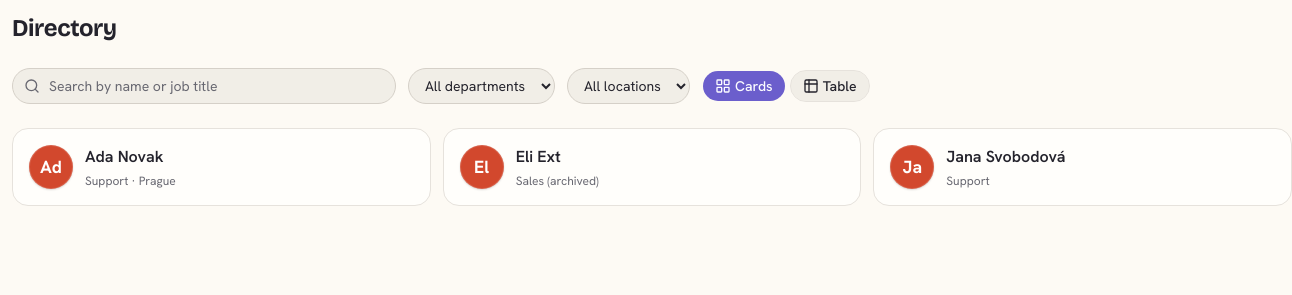
DirectoryScreen › filters by department and location, and shows both on the card and in the table
Expected: the text "Support · Prague" is shown, [85,173,176,189]
Expected: the text "Sales (archived)" is shown, [516,173,599,189]
Select "Support" in the dropdown named "Department" at (482, 86), box [408,68,555,104]
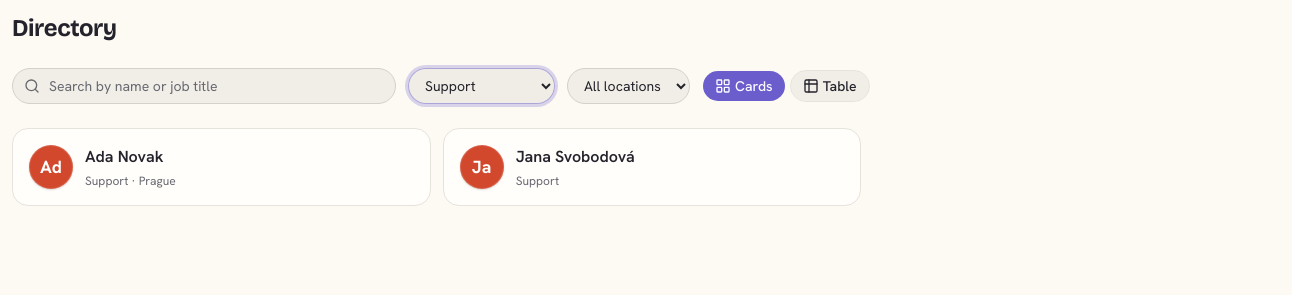
Now the number of links is 2, box [12,128,431,206]; [443,128,861,206]
Select "Prague" in the dropdown named "Location" at (628, 86), box [567,68,690,104]
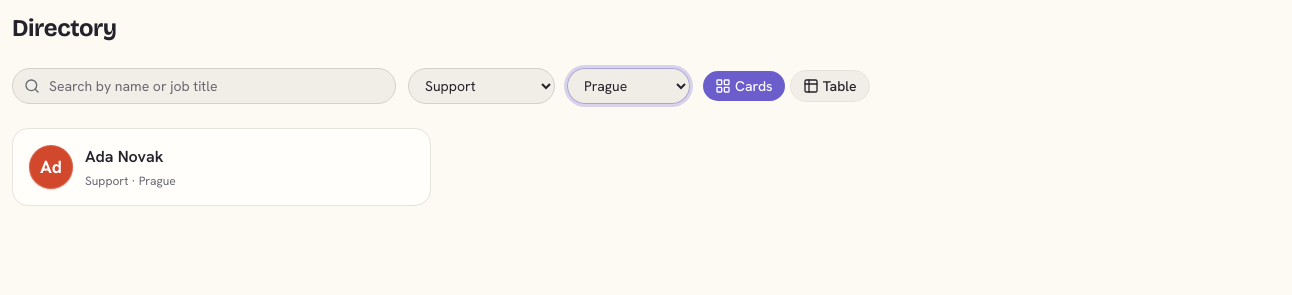
Expected: the number of links is 1, [12,128,431,206]
Select "All departments" in the dropdown named "Department" at (482, 86), box [408,68,555,104]
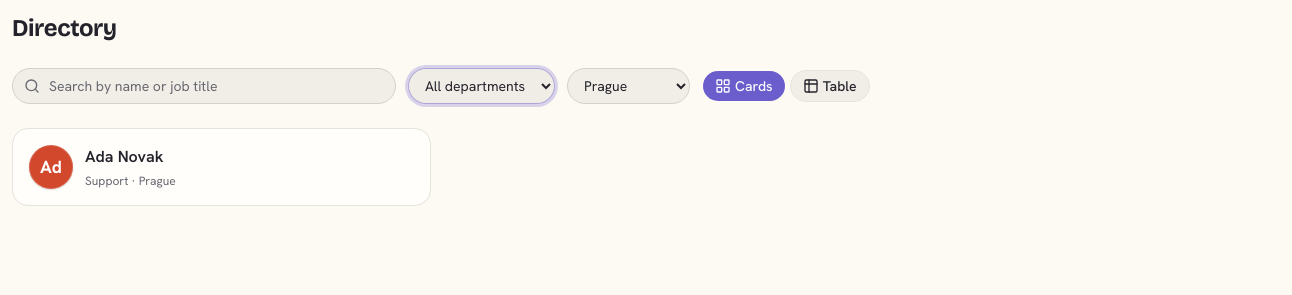
Click the button "Table" at (830, 86), box [790,70,870,102]
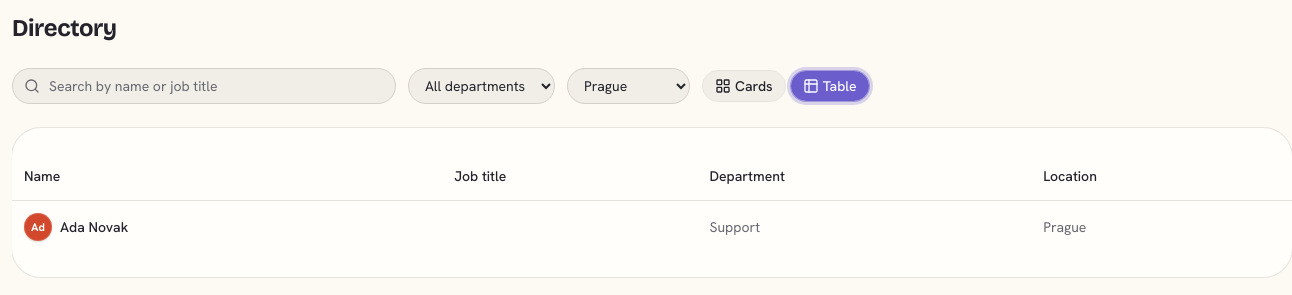
Expected: the cell "Prague" is shown, [1031,200,1291,252]
Now the column heading "Department" is shown, box [698,152,1031,200]
